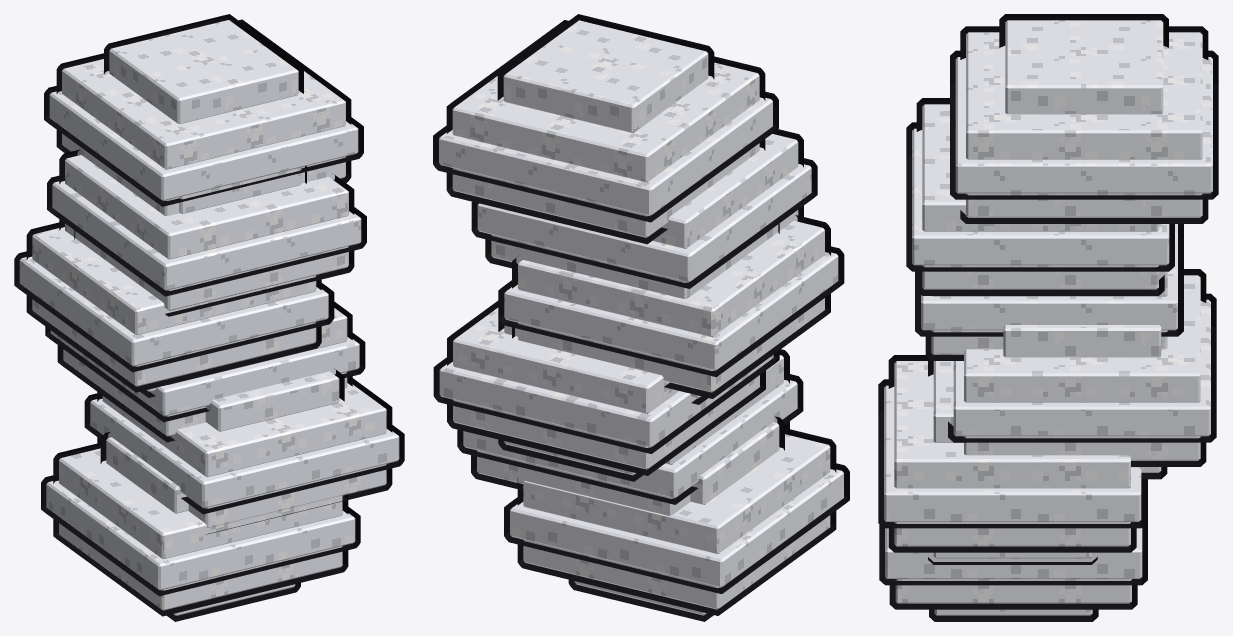
Rendered from env_storm_cloud_pillar.glb.
3 views of the same model, side by side, from view 1: azimuth 30°, elevation 25°; view 2: azimuth 150°, elevation 25°; view 3: azimuth 270°, elevation 25° (orthographic). The views are drawn at different scales.
Parts seen in each view (by area): view 1: model; view 2: model; view 3: model.
Part boxes in pixels (bbox=[...]): model: bbox=[14, 14, 404, 621]; model: bbox=[433, 14, 849, 621]; model: bbox=[878, 14, 1218, 621].
Size of the model in its own units: 1.71 by 3.12 by 1.72.
Materials: 2 (1 with a texture image).
